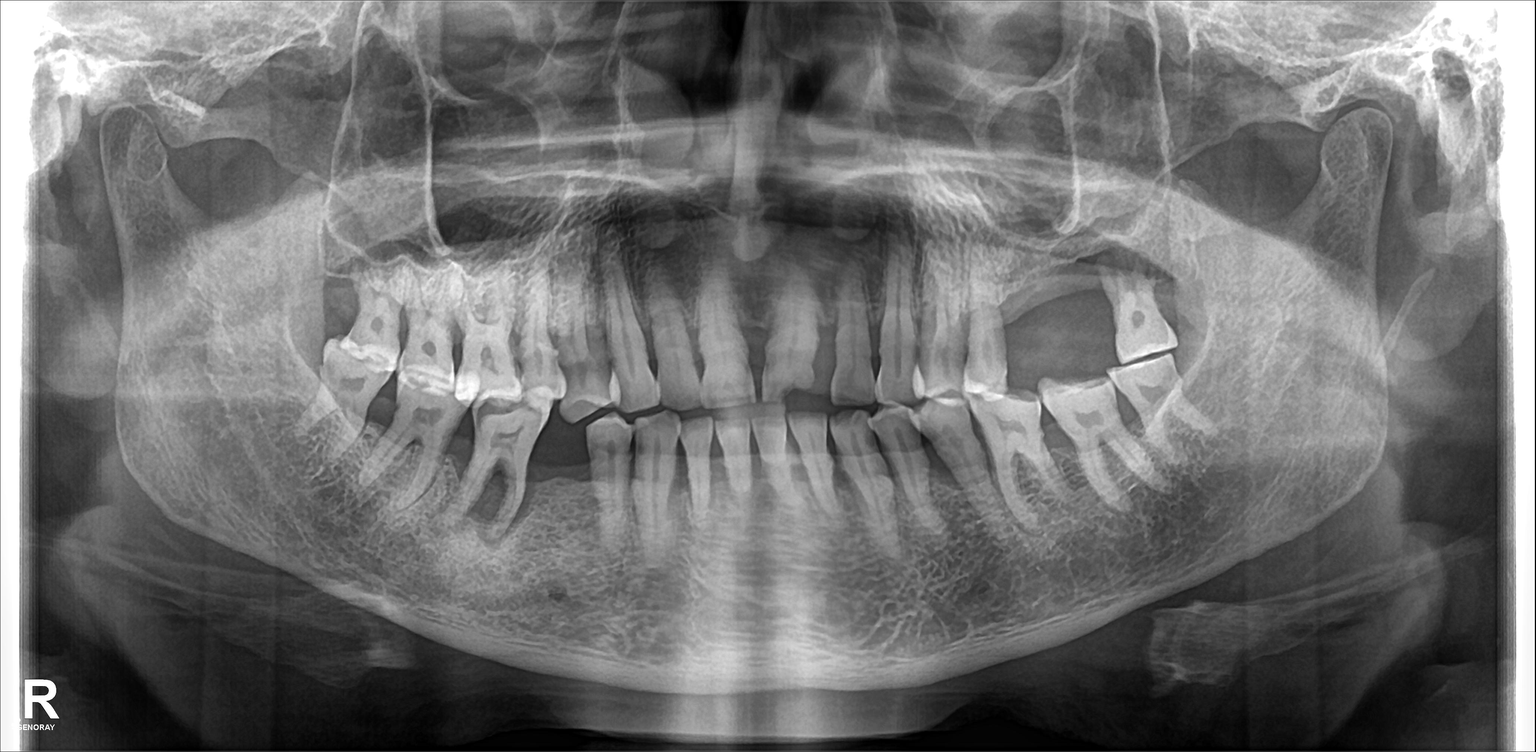Missing Tooth: (1052, 262, 1116, 365), (538, 423, 587, 533), (1021, 277, 1058, 380)
Periapical Lesion: (469, 456, 520, 538)
